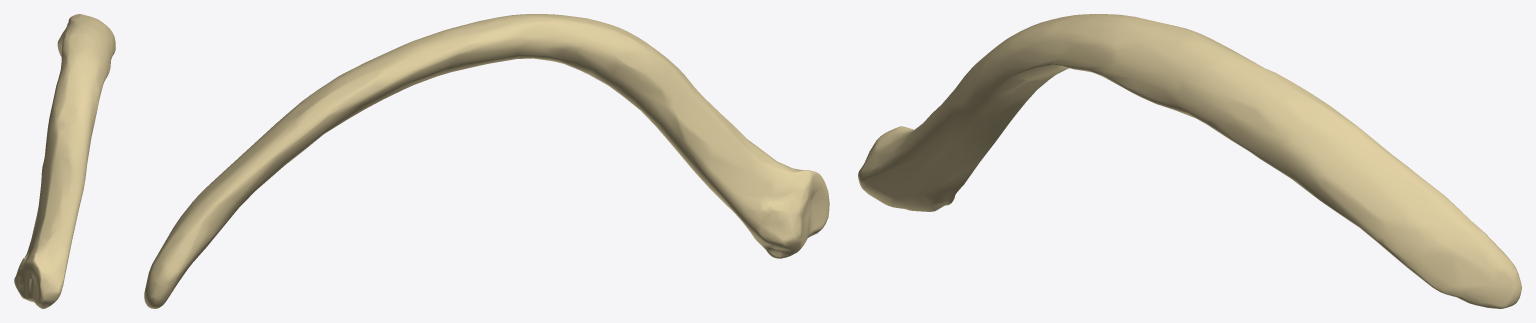
3 renders of one model, left to right at view 1: azimuth 30°, elevation 25°; view 2: azimuth 150°, elevation 25°; view 3: azimuth 270°, elevation 25°, orthographic. The views are drawn at different scales.
Visible parts, largest first — view 1: 左侧第十二肋; view 2: 左侧第十二肋; view 3: 左侧第十二肋.
Part boxes in pixels (x1,y1,x2,y2): 左侧第十二肋: [14, 14, 115, 308]; 左侧第十二肋: [144, 14, 829, 308]; 左侧第十二肋: [858, 14, 1521, 308].
Bounding box in the file's own units: 0.0973 × 0.0654 × 0.1442.
